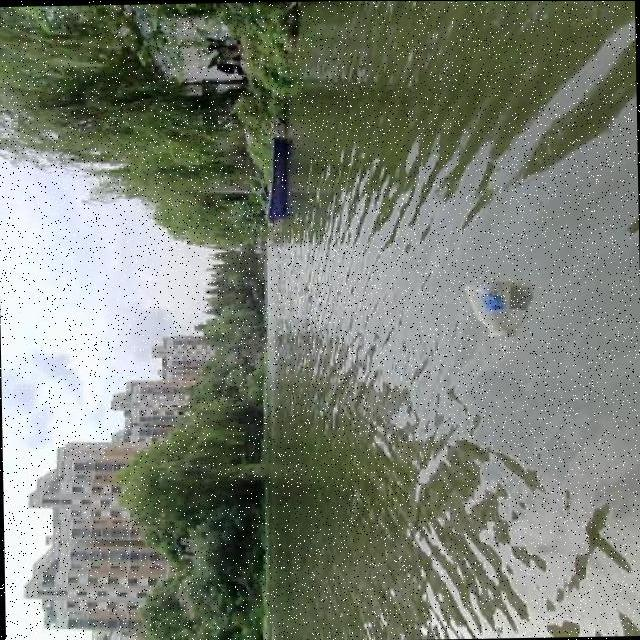Bottle: (456, 273, 518, 342)
